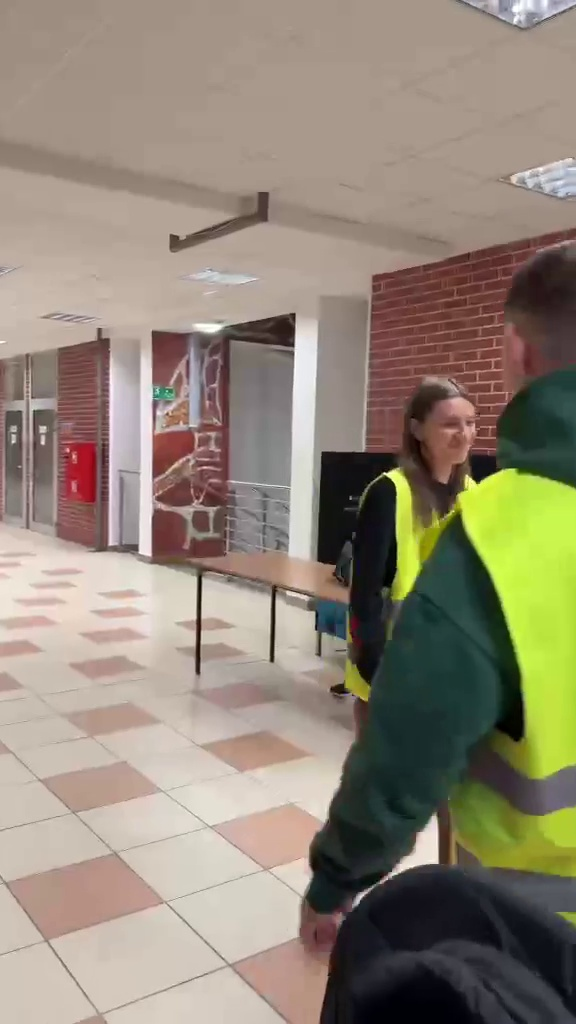vest: (453, 259, 576, 879), (353, 373, 487, 640)
